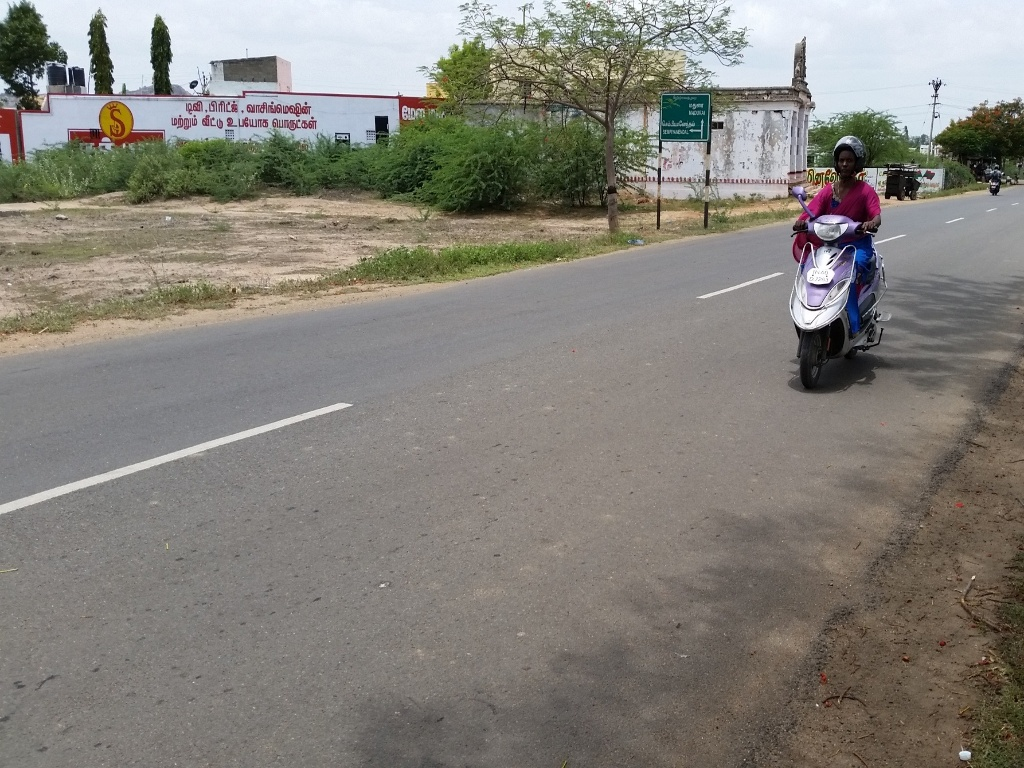biker: (766, 98, 928, 403)
helmet: (823, 122, 878, 191)
